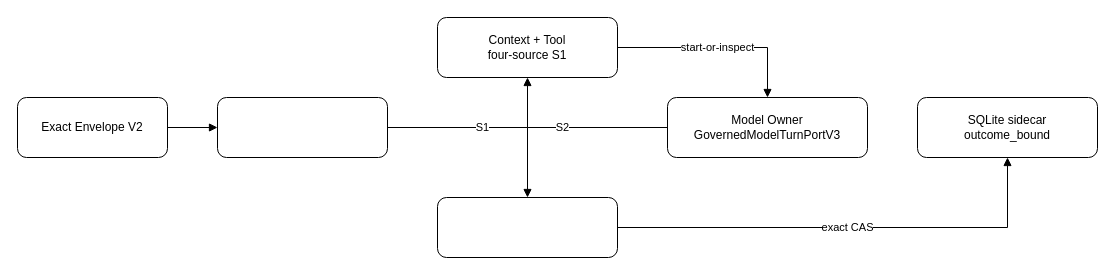
Some shapes in this 1115 by 275 pixel diagram are drawn without their labels. The box of each missing label's shape, as (x1, y1, x2, y2) in pixels:
Context + Tool four-source S2: (436, 196, 618, 258)
SQLite sidecar attempt_bound: (216, 96, 388, 158)
